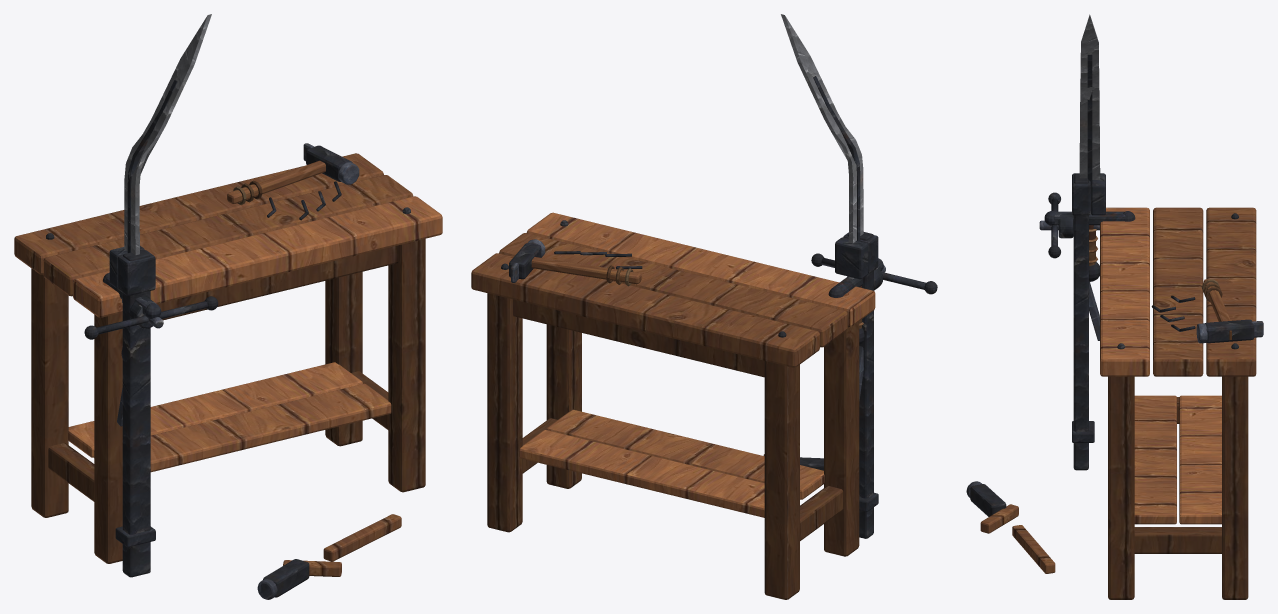
The model's file is ef_bent_blade_vise.glb.
The picture shows the model from 3 angles, left to right: view 1: azimuth 30°, elevation 25°; view 2: azimuth 150°, elevation 25°; view 3: azimuth 270°, elevation 25°; orthographic projection. The views are drawn at different scales.
Parts seen in each view (by area): view 1: model; view 2: model; view 3: model.
Boxes of the visible parts, x1,y1,x2,y2 form: model: [14, 14, 442, 599]; model: [471, 14, 937, 599]; model: [966, 14, 1263, 599].
Size of the model in its own units: 1.06 by 1.41 by 0.7823.
9 materials, 9 textured.
